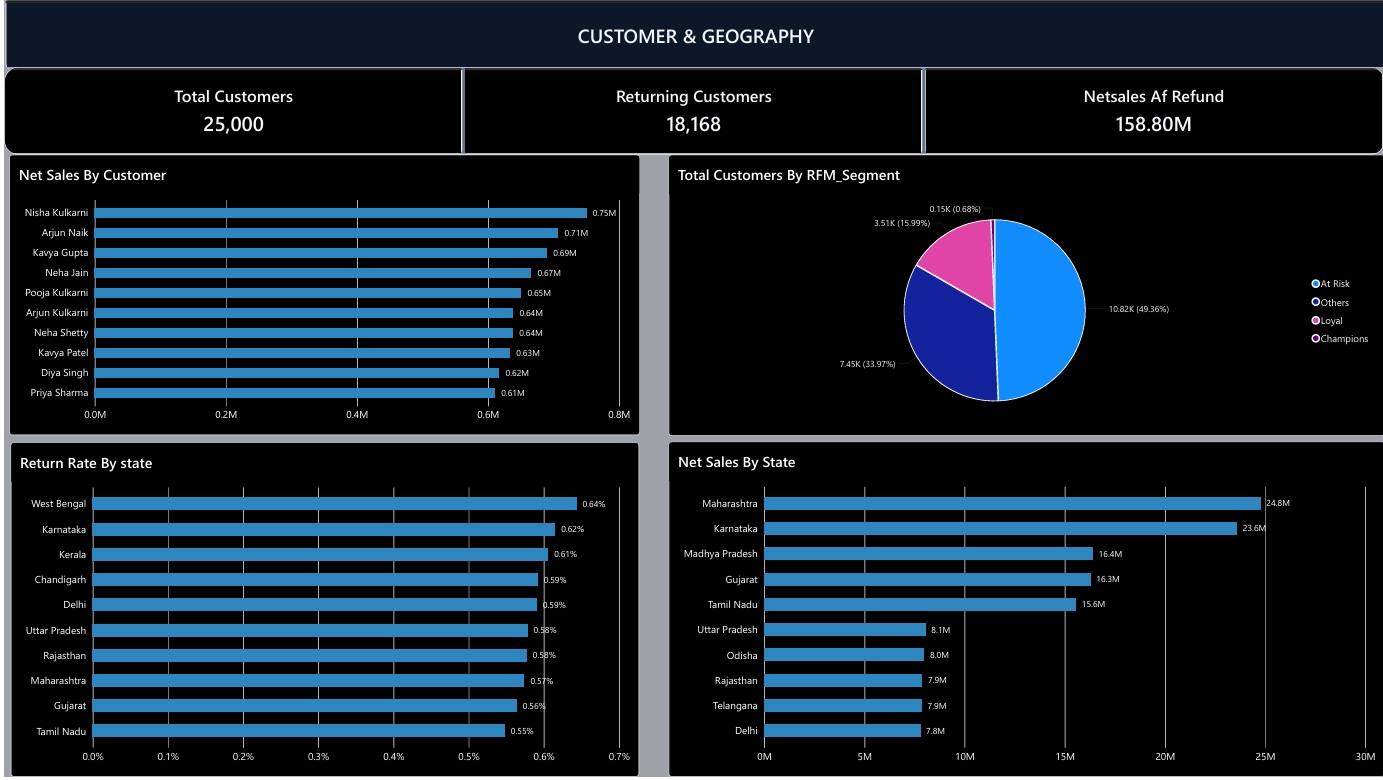

This screenshot's page, from the dashboard's own definition file:
{"tool":"powerbi","page":{"name":"Page 5","canvas":[1920,1080],"ordinal":4},"visuals":[{"type":"cardVisual","fields":{"Data":["Measure.Total Customers","Measure.Returning Customers","Measure.Netsales Af Refund"]},"box":[0,93.3,1920.1,121.3],"z":0},{"type":"barChart","title":"Net Sales By Customer","fields":{"Category":["vw_customer_base.customer_name"],"Y":["Measure.Netsales Af Refund"]},"box":[7.5,214.6,877,390],"z":1000},{"type":"barChart","title":"Net Sales  By State","fields":{"Category":["orders.shipping_state"],"Y":["Measure.Netsales Af Refund"]},"box":[923.6,613.9,996.4,466.5],"z":2000},{"type":"barChart","title":"Return Rate By state","fields":{"Category":["orders.shipping_state"],"Y":["Measure.ReturnRate"]},"box":[9.2,614.7,874.2,465.6],"z":3000},{"type":"pieChart","title":"Total Customers By RFM_Segment","fields":{"Category":["vw_customer_base.RFM_Segment"],"Y":["CountNonNull(vw_customer_base.customer_id)"]},"box":[923.6,214.6,996.4,391.8],"z":4000},{"type":"cardVisual","fields":{"Data":["Measure.CUSTOMER GEOGRAPHY TITLE"]},"box":[1.9,0,1918.2,93.3],"z":5000}]}

Visuals, with their boxes in screenshot pixels (x1, y1, x2, y2), scaled from the page's 1920x1080 canvas onto the 1383x780 screenshot:
cardVisual - Measure.Total Customers x Measure.Returning Customers: {"left": 0, "top": 67, "right": 1382, "bottom": 155}
"Net Sales By Customer" barChart: {"left": 5, "top": 155, "right": 637, "bottom": 437}
"Net Sales  By State" barChart: {"left": 665, "top": 443, "right": 1382, "bottom": 779}
"Return Rate By state" barChart: {"left": 7, "top": 444, "right": 636, "bottom": 779}
"Total Customers By RFM_Segment" pieChart: {"left": 665, "top": 155, "right": 1382, "bottom": 438}
cardVisual - Measure.CUSTOMER GEOGRAPHY TITLE: {"left": 1, "top": 0, "right": 1382, "bottom": 67}
